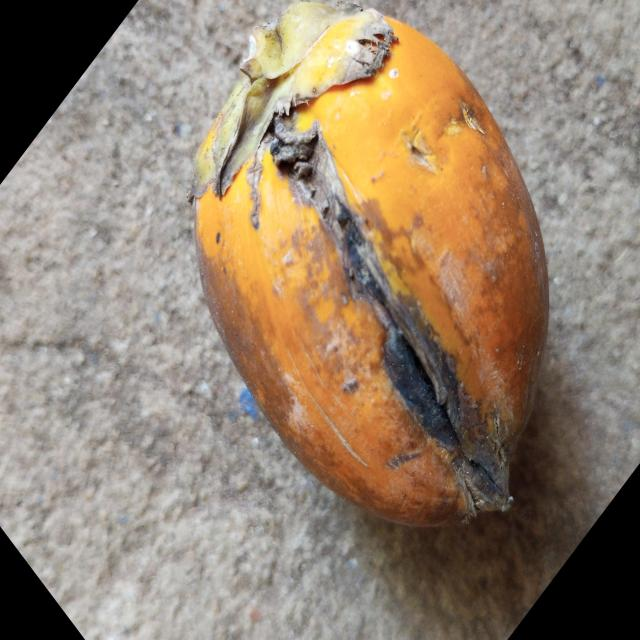damaged: (192, 0, 550, 531)
